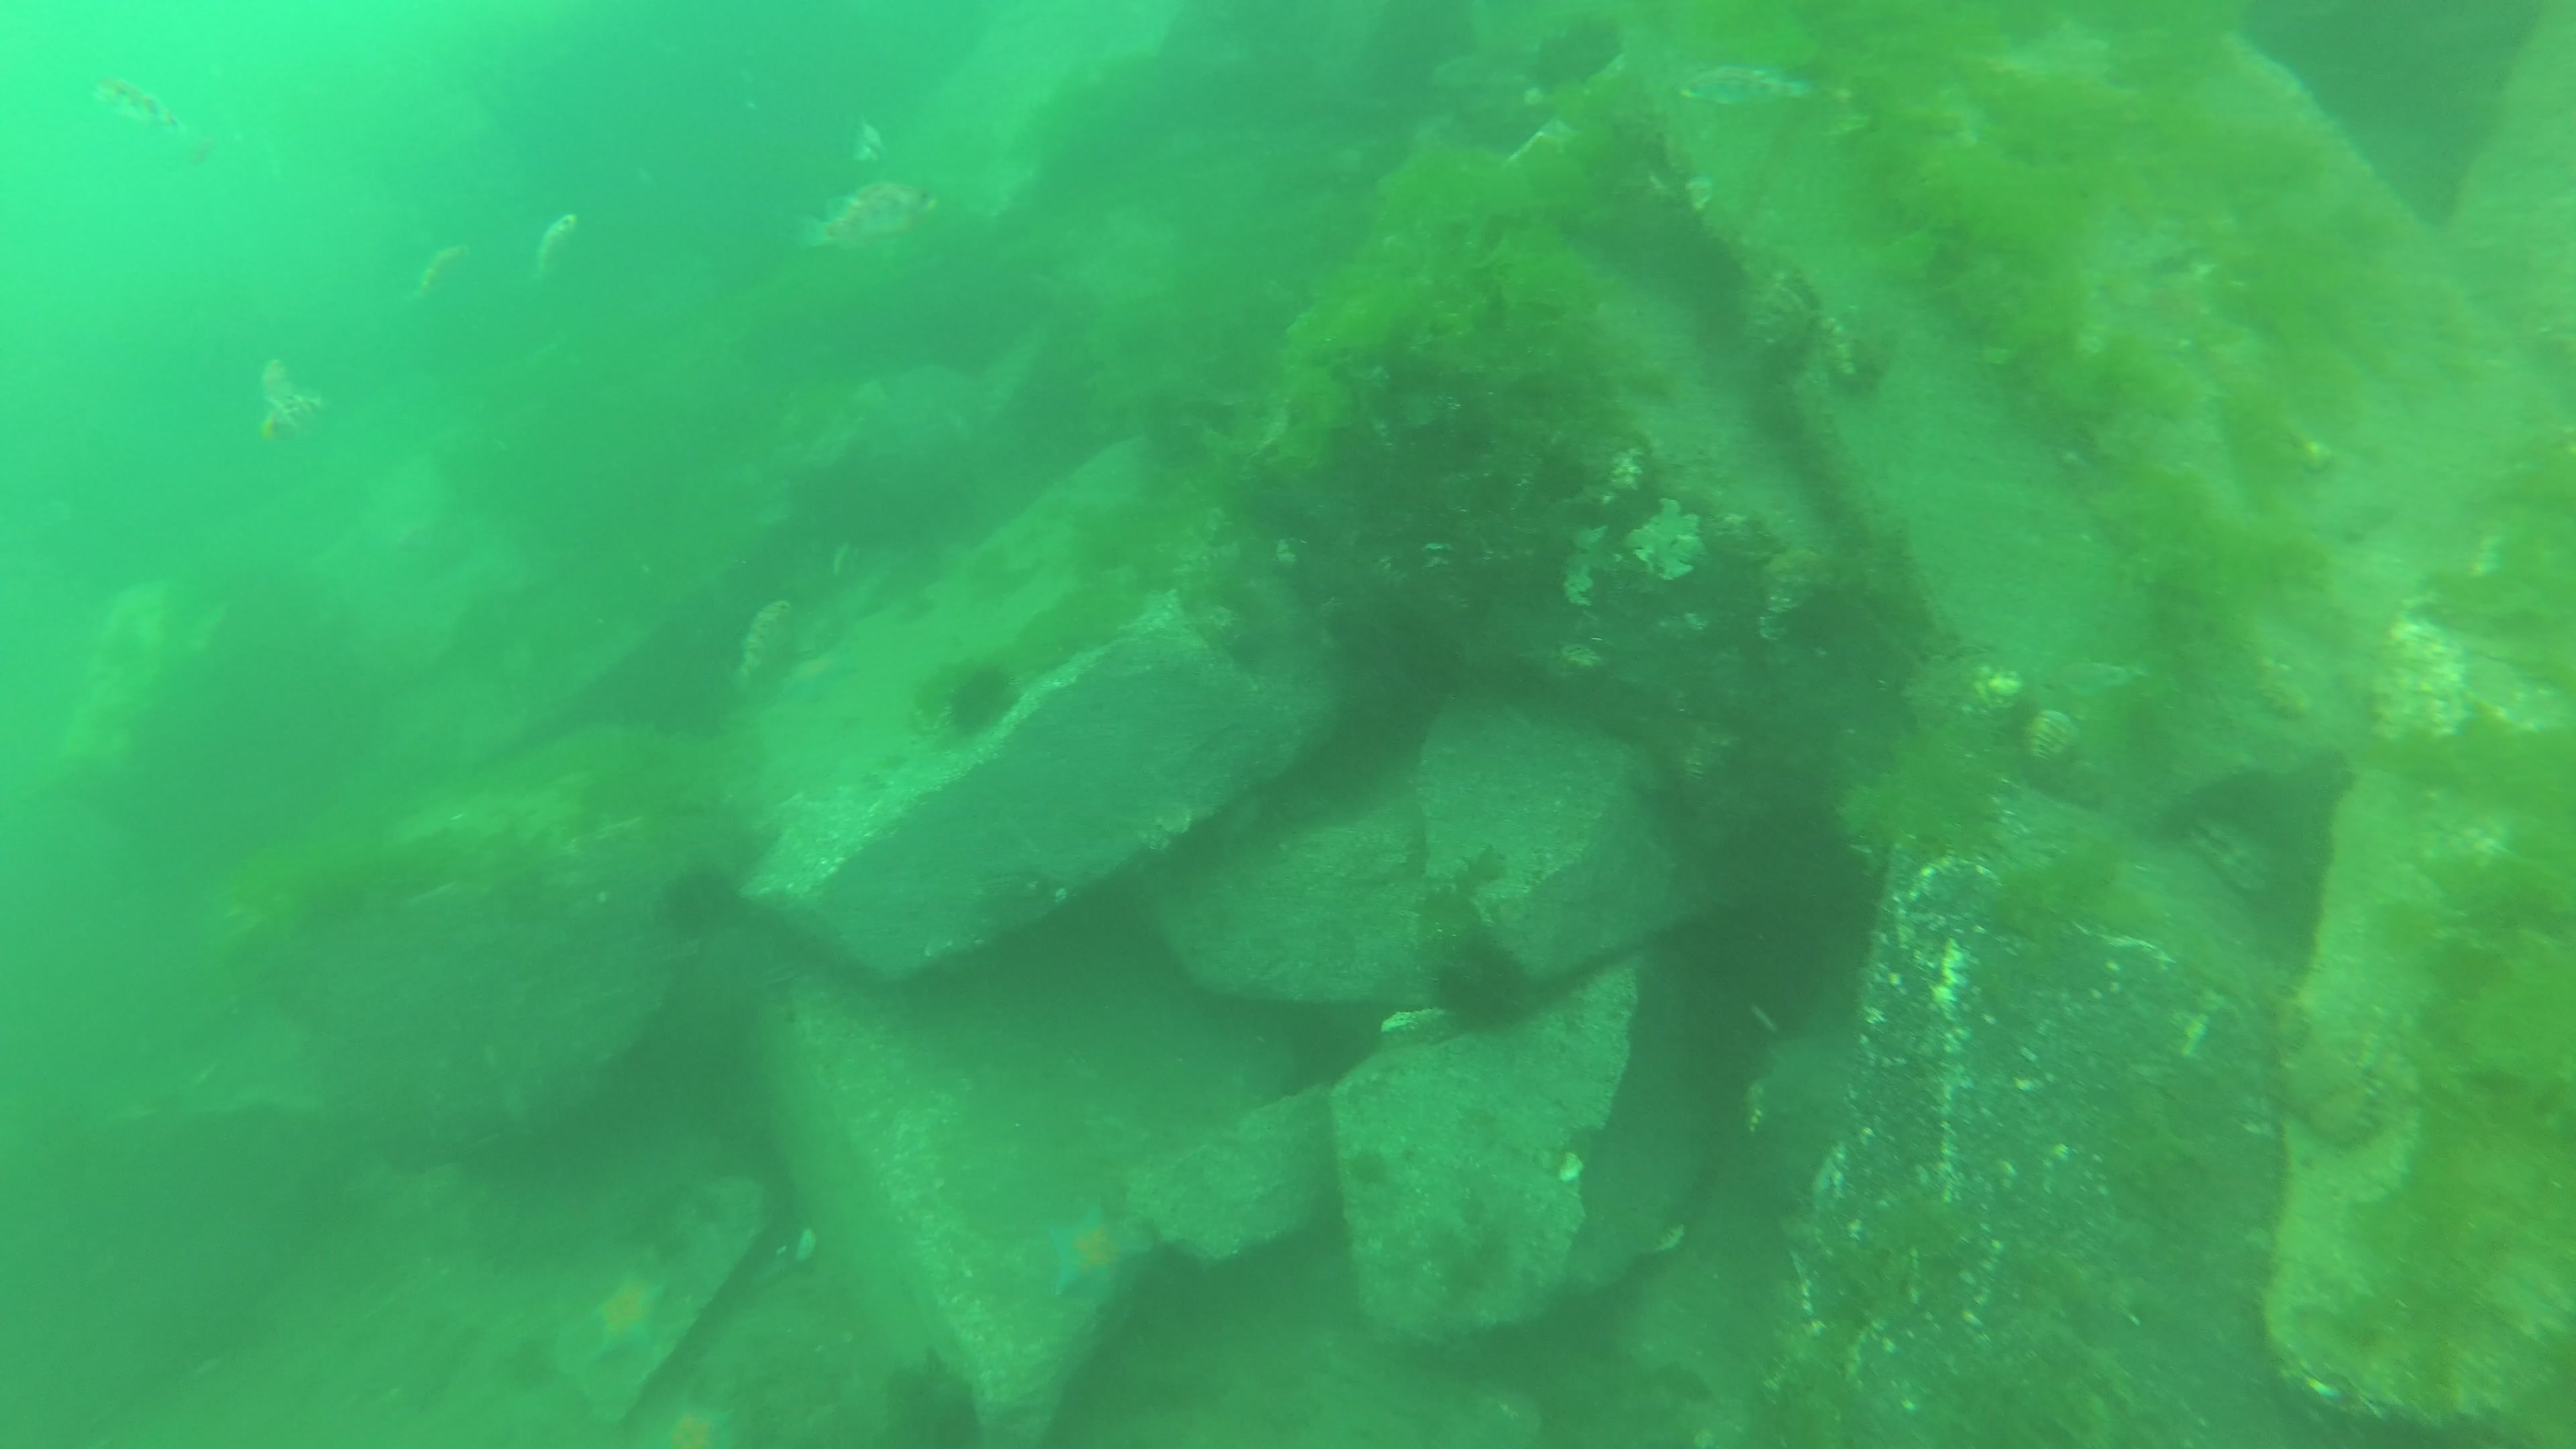echinus: (1431, 929, 1527, 1037), (883, 1348, 977, 1449), (663, 860, 752, 943), (1299, 1008, 1376, 1083), (947, 667, 1024, 734)
starfish: (1046, 1201, 1155, 1307), (593, 1272, 672, 1366), (775, 653, 865, 709), (646, 1398, 732, 1449)
